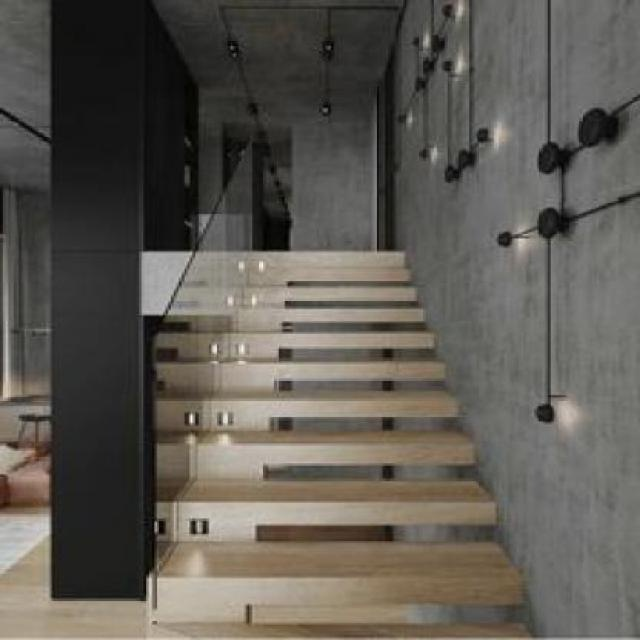stair: (42, 206, 476, 606)
